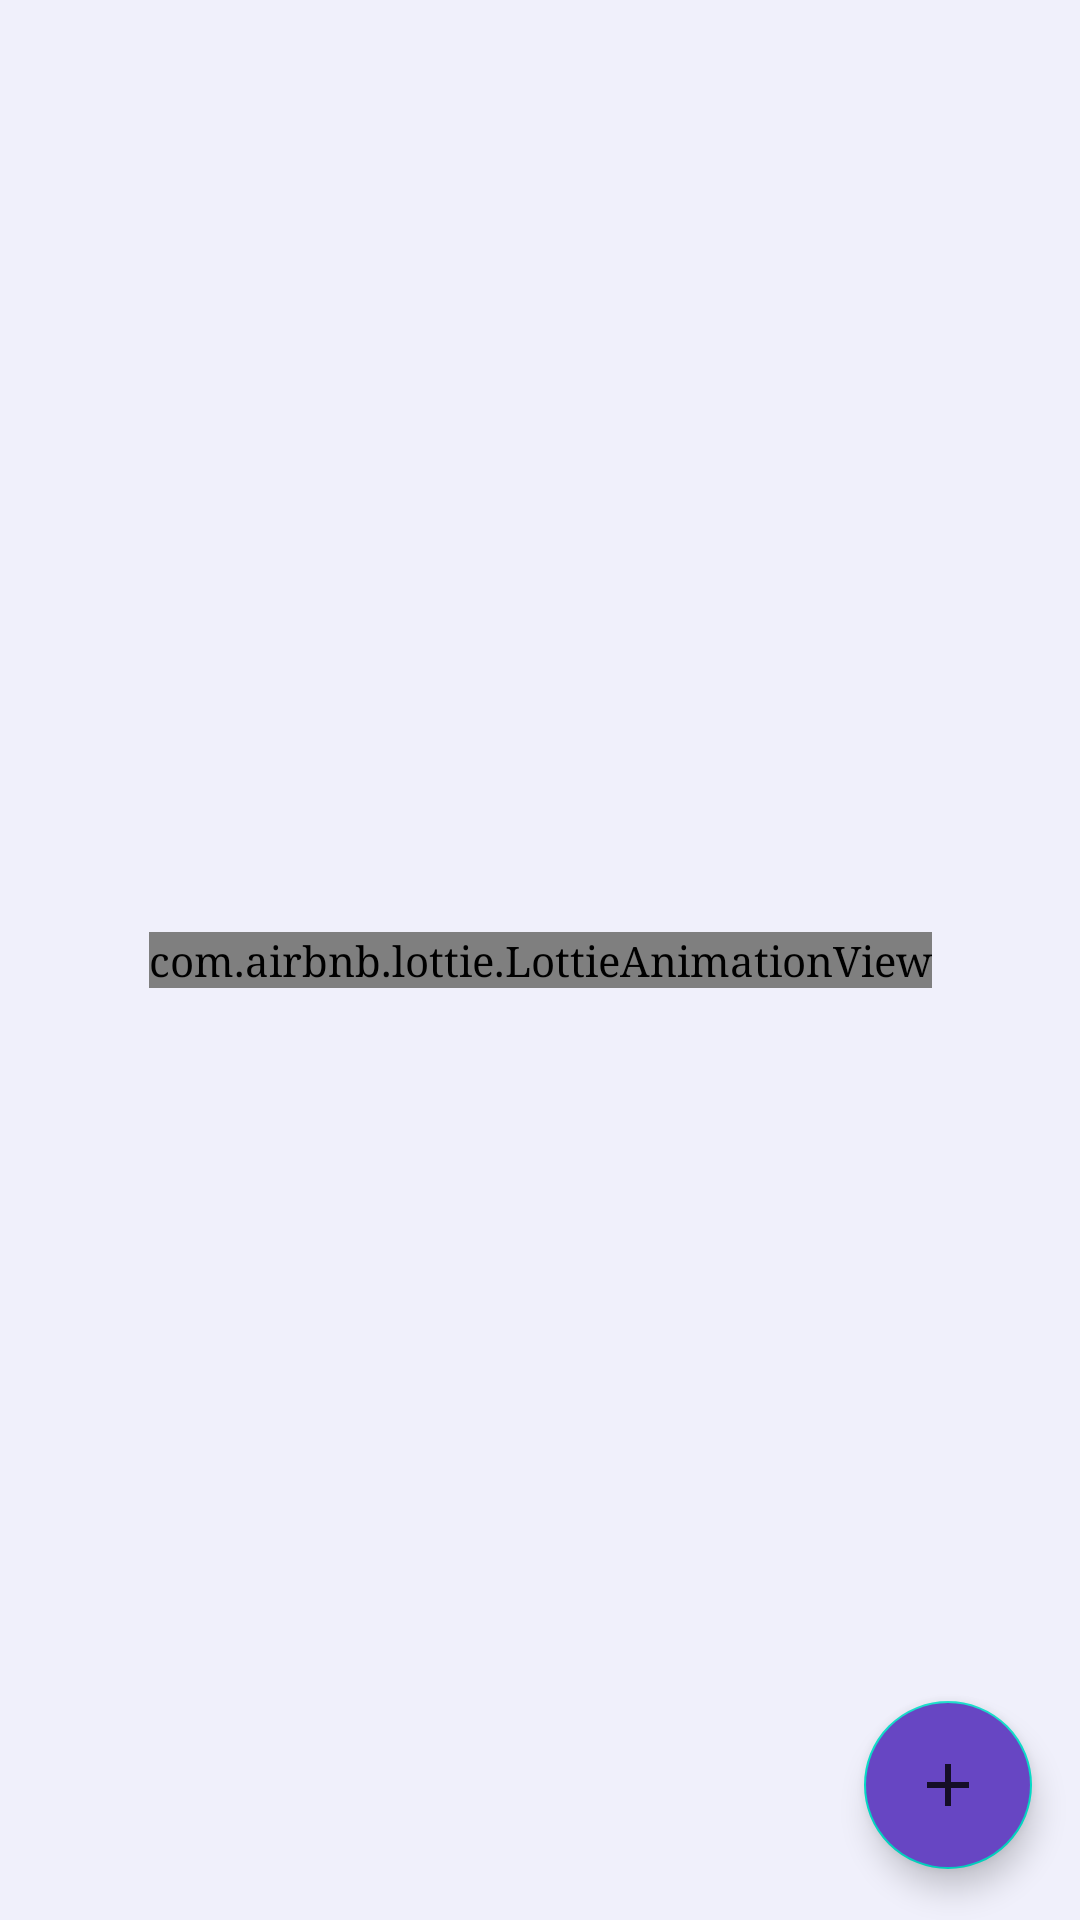

Named icons in this screenshot (1080x1920) and their centers, (x,y):
New Service: (948,1785)
